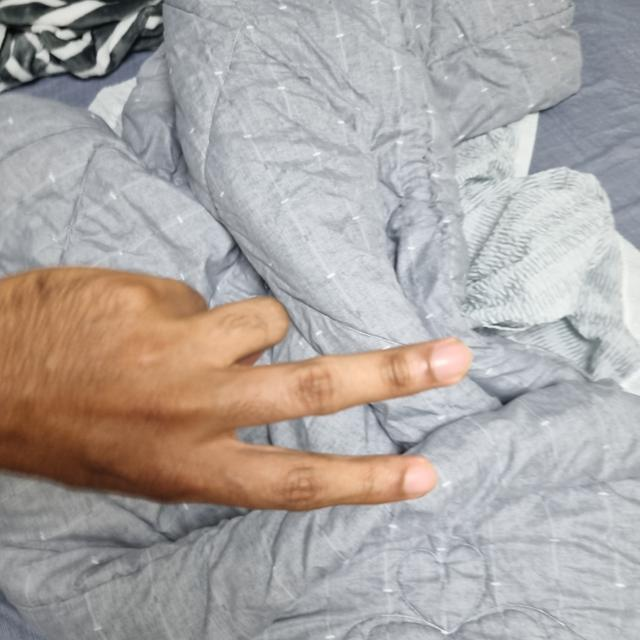Scissors: (1, 267, 459, 506)
